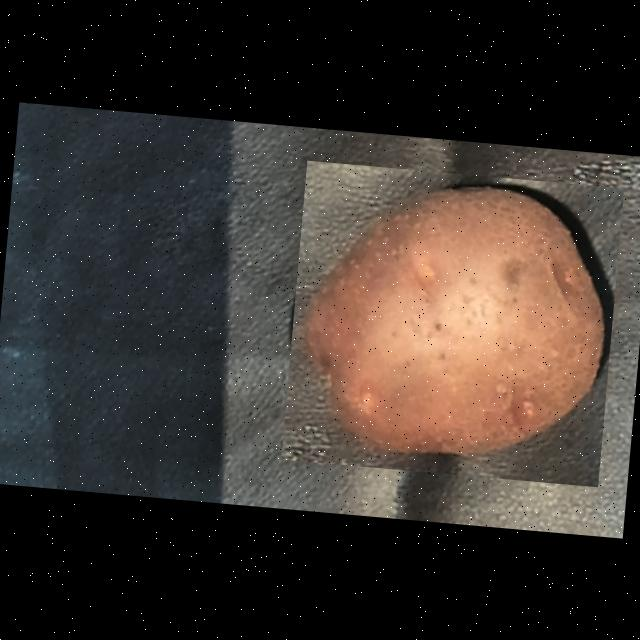Diseased-fungal potato: (280, 160, 622, 487)
